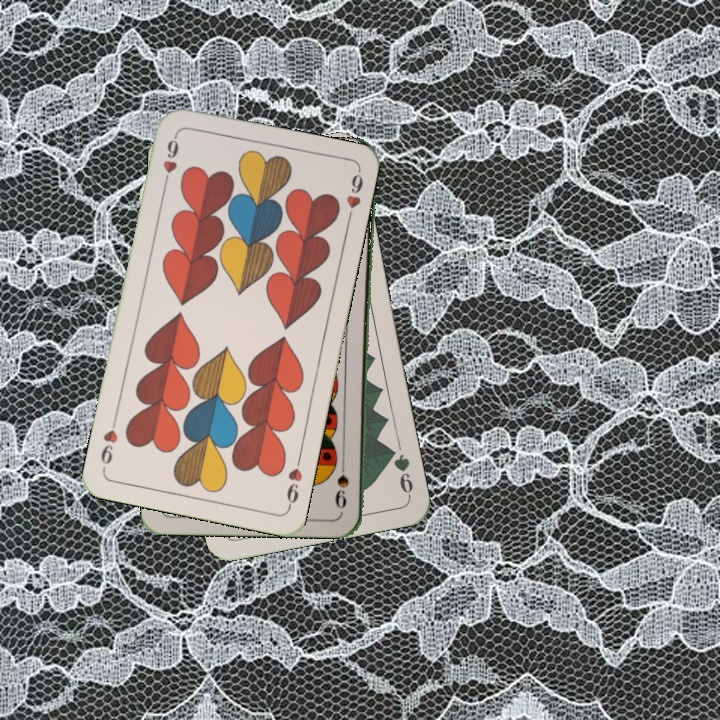G9: (384, 443, 416, 499)
H9: (158, 130, 182, 189), (282, 452, 305, 511)
S9: (334, 453, 351, 511)
